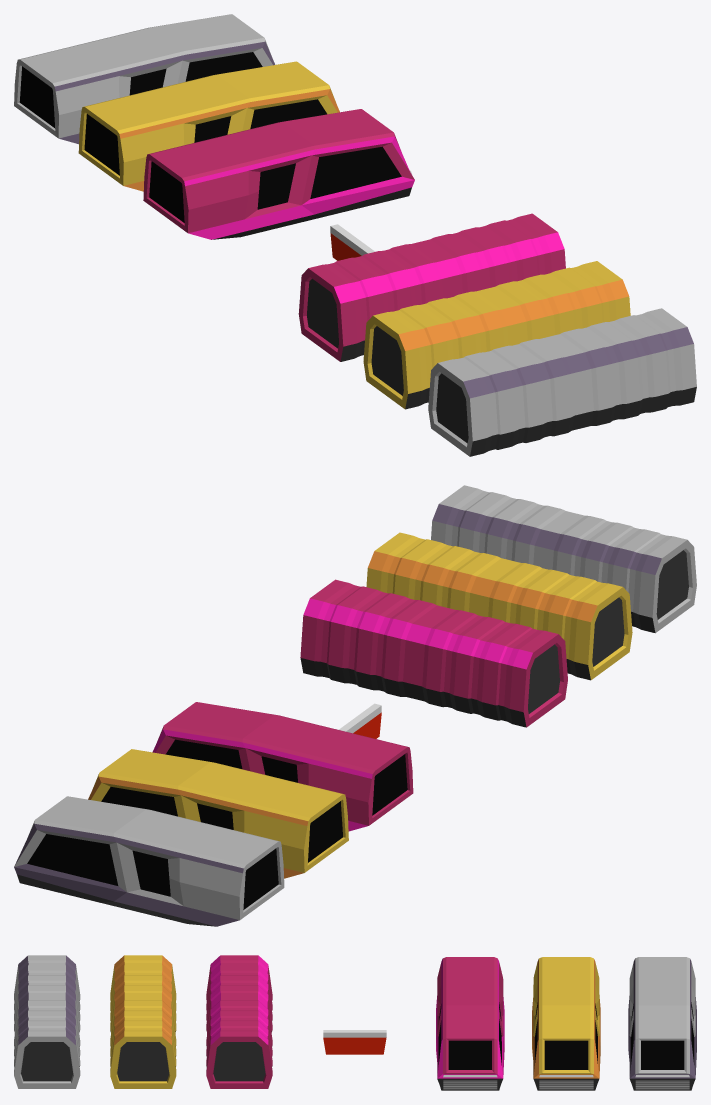
The model's file is Trains.fbx.
The picture shows the model from 3 angles, top to bottom: view 1: azimuth 30°, elevation 25°; view 2: azimuth 150°, elevation 25°; view 3: azimuth 270°, elevation 25°; orthographic projection. The views are drawn at different scales.
Visible parts, largest first — view 1: Cube.005, Cube.001, Cube.004, Cube.003, Cube.002, Cube, Cube.006; view 2: Cube.004, Cube.002, Cube.005, Cube.003, Cube, Cube.001, Cube.006; view 3: Cube.002, Cube, Cube.001, Cube.004, Cube.003, Cube.005, Cube.006.
Boxes of the visible parts, bbox=[...] form: Cube.005: bbox=[428, 308, 696, 456]; Cube.001: bbox=[143, 109, 414, 239]; Cube.004: bbox=[298, 213, 565, 361]; Cube.003: bbox=[363, 261, 630, 409]; Cube.002: bbox=[14, 14, 275, 144]; Cube: bbox=[78, 61, 339, 191]; Cube.006: bbox=[330, 224, 374, 260]; Cube.004: bbox=[300, 579, 567, 727]; Cube.002: bbox=[14, 796, 284, 926]; Cube.005: bbox=[431, 485, 696, 633]; Cube.003: bbox=[366, 532, 632, 680]; Cube: bbox=[88, 749, 348, 878]; Cube.001: bbox=[152, 702, 413, 831]; Cube.006: bbox=[339, 703, 381, 738]; Cube.002: bbox=[628, 957, 696, 1090]; Cube: bbox=[532, 957, 600, 1090]; Cube.001: bbox=[436, 957, 504, 1090]; Cube.004: bbox=[206, 955, 272, 1088]; Cube.003: bbox=[110, 955, 176, 1088]; Cube.005: bbox=[14, 955, 80, 1088]; Cube.006: bbox=[323, 1030, 386, 1054].
Size of the model in its own units: 1018 by 330 by 3551.
